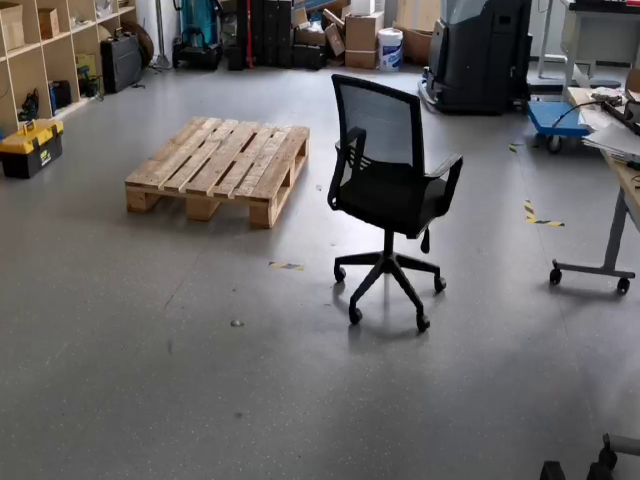block: (245, 193, 277, 230), (124, 180, 150, 216), (182, 193, 212, 224)
front: (126, 185, 276, 231)
hole pallet: (210, 200, 251, 225), (142, 196, 185, 219)
